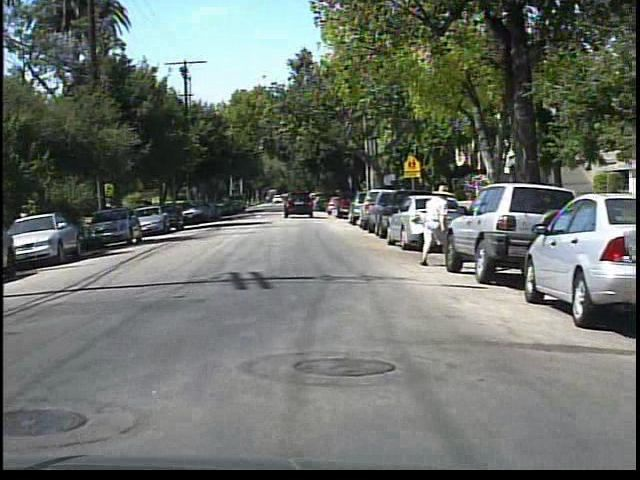person: (414, 181, 457, 269)
